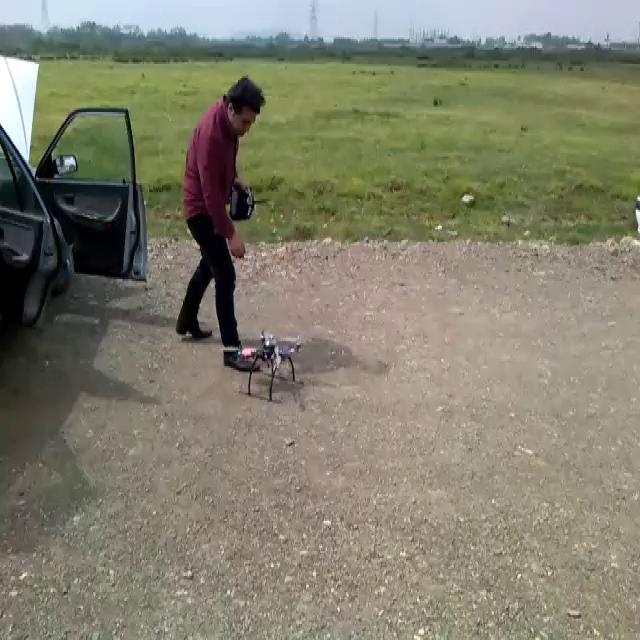drone: (228, 324, 305, 396)
